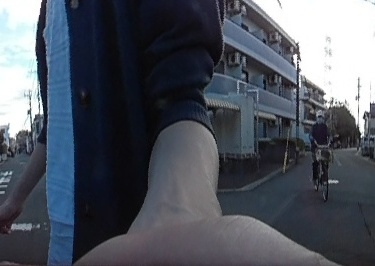person: (310, 109, 331, 171)
